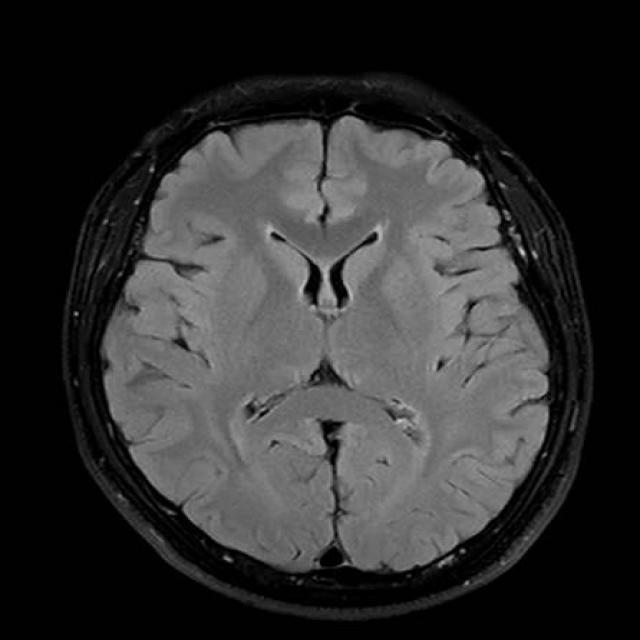No_Tumor: (63, 78, 591, 619)
